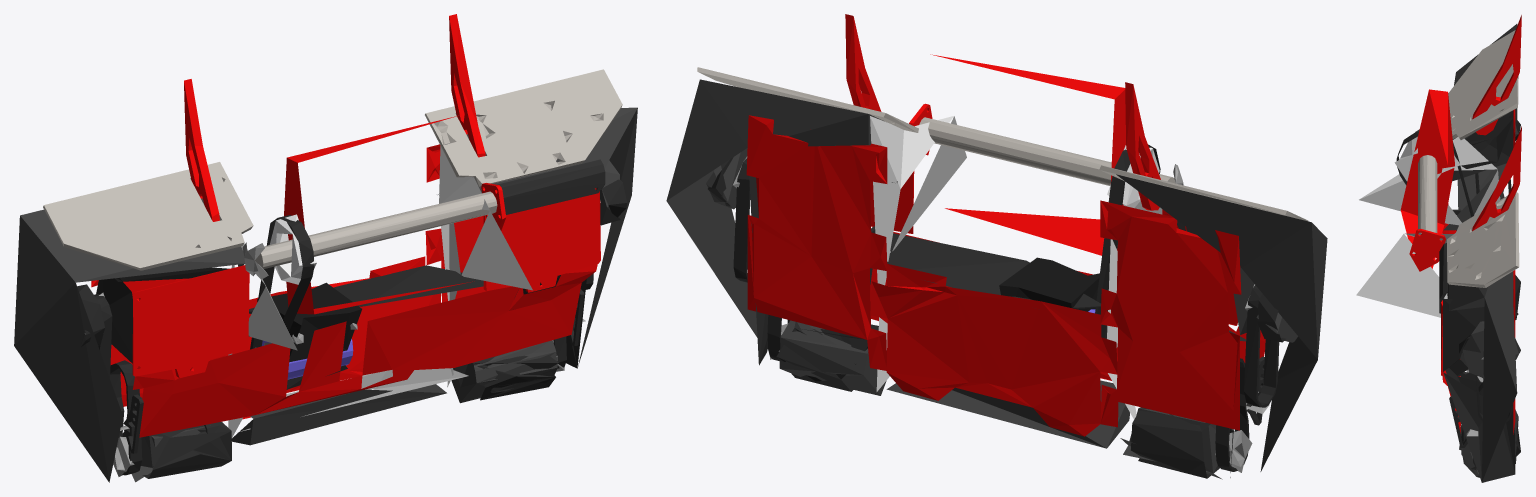
File: rig.lod0.glb
3 renders of one model, left to right at view 1: azimuth 30°, elevation 25°; view 2: azimuth 150°, elevation 25°; view 3: azimuth 270°, elevation 25°, orthographic. The views are drawn at different scales.
Visible parts, largest first — view 1: Central_Top_Plate_1, Component149_1, Component159_1, Component158_1, Front_Top_Plate_Left_1, Front_Top_Plate_Right_1, Core_Upright_Rail_Right_1, Component157_1, Component145_1, MK3_Cast_Rear_Wheels_v9_1, MK3_Cast_Rear_Wheels_v9_1_1, Component148_1 (+19 smaller); view 2: Central_Bottom_Plate_1, Left_Bottom_Plate_1, Left_Bottom_Plate_Mirror_1, Component148_1, Component149_1, Core_Upright_Rail_Right_1, MK3_Cast_Rear_Wheels_v9_1, Revised-asymmetrical_weapon_v1_1, MK3_Cast_Rear_Wheels_v9_1_1, Central_Frame_Rail_1, Component157_1, Component145_1 (+15 smaller); view 3: Component148_1, Core_Upright_Rail_Right_1, Component158_1, Outer_Wall_Rail_Right_1, Revised-asymmetrical_weapon_v1_1, Component159_1, Rhino_Fork_v13_v2_1, Component157_1, Rhino_Fork_v13_v2_2, Component149_1, Outer_Wall_Rail_Left_1, MK3_Cast_Front_Wheels_v6_Mirror_1 (+11 smaller).
Boxes of the visible parts, x1,y1,x2,y2 form: Central_Top_Plate_1: (133, 264, 597, 437); Component149_1: (14, 198, 244, 482); Component159_1: (43, 162, 253, 270); Component158_1: (425, 69, 622, 186); Front_Top_Plate_Left_1: (132, 265, 249, 378); Front_Top_Plate_Right_1: (483, 188, 600, 292); Core_Upright_Rail_Right_1: (228, 143, 532, 438); Component157_1: (255, 191, 497, 268); Component145_1: (231, 384, 446, 445); MK3_Cast_Rear_Wheels_v9_1: (113, 422, 231, 482); MK3_Cast_Rear_Wheels_v9_1_1: (451, 340, 564, 403); Component148_1: (466, 107, 637, 366); Central_Bottom_Plate_1: (870, 263, 1117, 436); Left_Bottom_Plate_1: (1100, 200, 1241, 430); Left_Bottom_Plate_Mirror_1: (746, 115, 887, 370); Component148_1: (666, 79, 884, 337); Component149_1: (1116, 174, 1327, 471); Core_Upright_Rail_Right_1: (870, 116, 1162, 419); MK3_Cast_Rear_Wheels_v9_1: (1120, 407, 1252, 479); Revised-asymmetrical_weapon_v1_1: (930, 54, 1125, 255); MK3_Cast_Rear_Wheels_v9_1_1: (770, 320, 886, 395); Central_Frame_Rail_1: (887, 233, 1246, 341); Component157_1: (919, 117, 1175, 185); Component145_1: (886, 380, 1129, 448); Component148_1: (1447, 271, 1517, 481); Core_Upright_Rail_Right_1: (1356, 137, 1500, 317); Component158_1: (1447, 192, 1519, 287); Outer_Wall_Rail_Right_1: (1443, 298, 1515, 482); Revised-asymmetrical_weapon_v1_1: (1400, 89, 1454, 268); Component159_1: (1448, 30, 1518, 139); Rhino_Fork_v13_v2_1: (1472, 15, 1521, 135); Component157_1: (1418, 155, 1437, 234); Rhino_Fork_v13_v2_2: (1472, 126, 1521, 231); Component149_1: (1452, 24, 1517, 210); Outer_Wall_Rail_Left_1: (1452, 111, 1513, 184); MK3_Cast_Front_Wheels_v6_Mirror_1: (1459, 321, 1520, 378).
Bounding box in the file's own units: 0.503 × 0.2914 × 0.1352.
